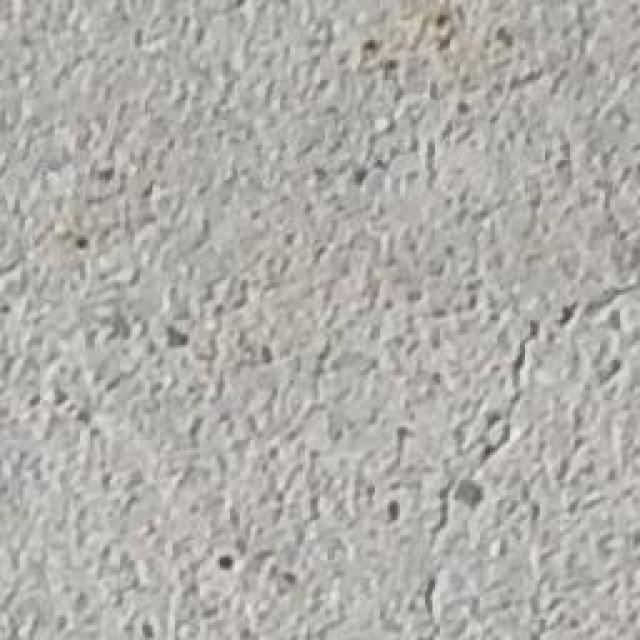concrete-crack: (418, 274, 637, 640)
